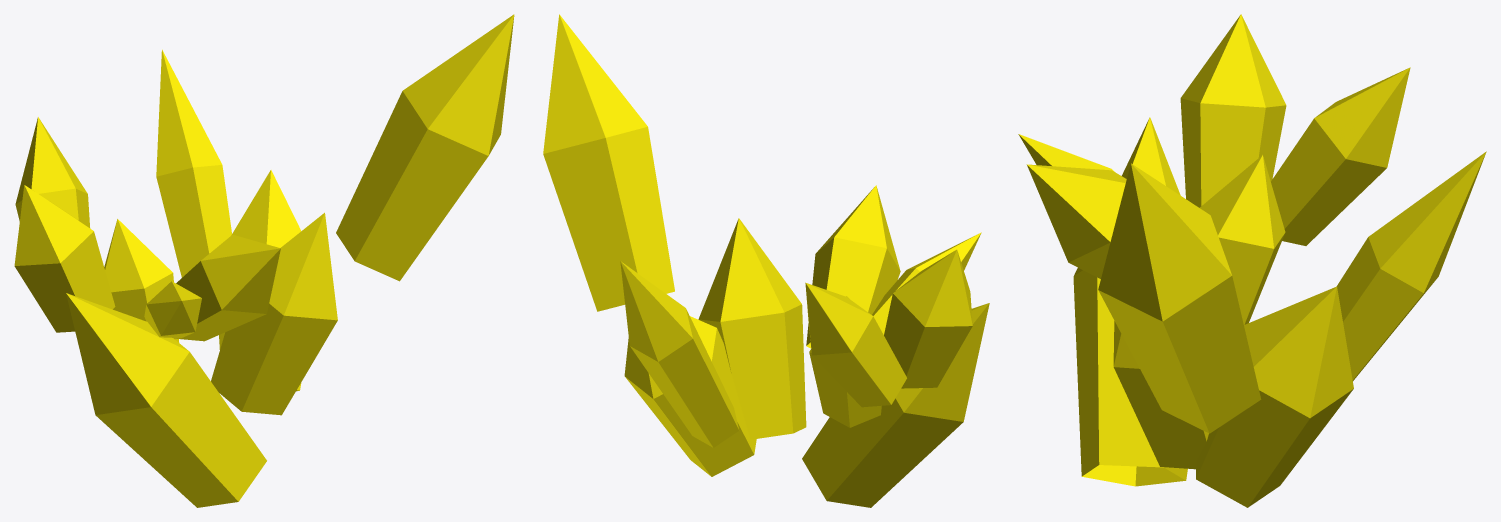
Rendered from assets_crystal-02.fbx.
3 renders of one model, left to right at view 1: azimuth 30°, elevation 25°; view 2: azimuth 150°, elevation 25°; view 3: azimuth 270°, elevation 25°, orthographic. The views are drawn at different scales.
Visible parts, largest first — view 1: Cylinder045, Cylinder046, Cylinder051, Cylinder047, Cylinder050, Cylinder052, Cylinder053, Cylinder049, Cylinder048, Cylinder054; view 2: Cylinder045, Cylinder051, Cylinder046, Cylinder047, Cylinder050, Cylinder049, Cylinder052, Cylinder048, Cylinder053, Cylinder054; view 3: Cylinder045, Cylinder048, Cylinder047, Cylinder050, Cylinder049, Cylinder046, Cylinder053, Cylinder052, Cylinder051, Cylinder054.
Part boxes in pixels (x1,y1,x2,y2): Cylinder045: [336, 14, 514, 281]; Cylinder046: [66, 293, 266, 507]; Cylinder051: [211, 212, 337, 415]; Cylinder047: [156, 49, 231, 277]; Cylinder050: [14, 185, 115, 332]; Cylinder052: [176, 234, 280, 341]; Cylinder053: [104, 219, 179, 342]; Cylinder049: [15, 117, 90, 228]; Cylinder048: [219, 170, 301, 391]; Cylinder054: [144, 281, 201, 339]; Cylinder045: [543, 14, 674, 311]; Cylinder051: [698, 218, 806, 439]; Cylinder046: [802, 303, 989, 507]; Cylinder047: [620, 261, 739, 447]; Cylinder050: [884, 249, 972, 388]; Cylinder049: [805, 282, 906, 407]; Cylinder052: [806, 185, 900, 348]; Cylinder048: [624, 316, 756, 476]; Cylinder053: [809, 296, 881, 427]; Cylinder054: [872, 232, 981, 334]; Cylinder045: [1098, 163, 1261, 433]; Cylinder048: [1196, 286, 1353, 507]; Cylinder047: [1337, 151, 1486, 380]; Cylinder050: [1180, 14, 1286, 207]; Cylinder049: [1271, 67, 1410, 245]; Cylinder046: [1073, 117, 1187, 486]; Cylinder053: [1200, 155, 1285, 324]; Cylinder052: [1026, 164, 1126, 278]; Cylinder051: [1113, 321, 1208, 469]; Cylinder054: [1018, 134, 1114, 171].
Bounding box in the file's own units: 0.4686 × 0.4091 × 0.3398.
